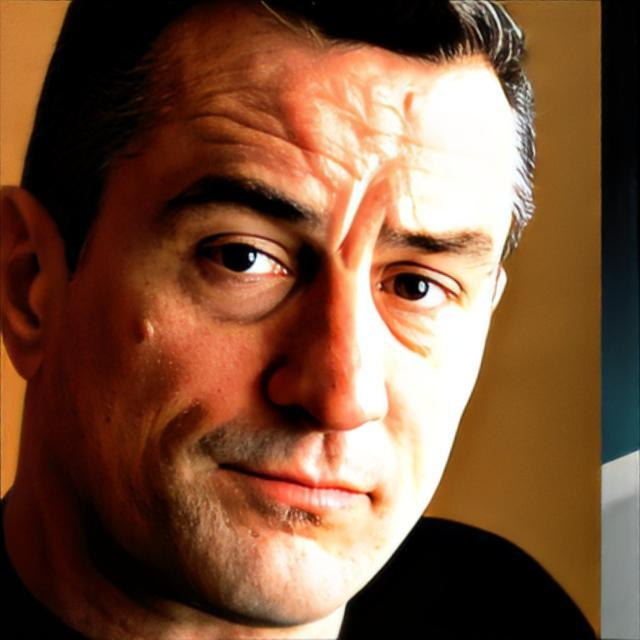content: (51, 20, 518, 626)
